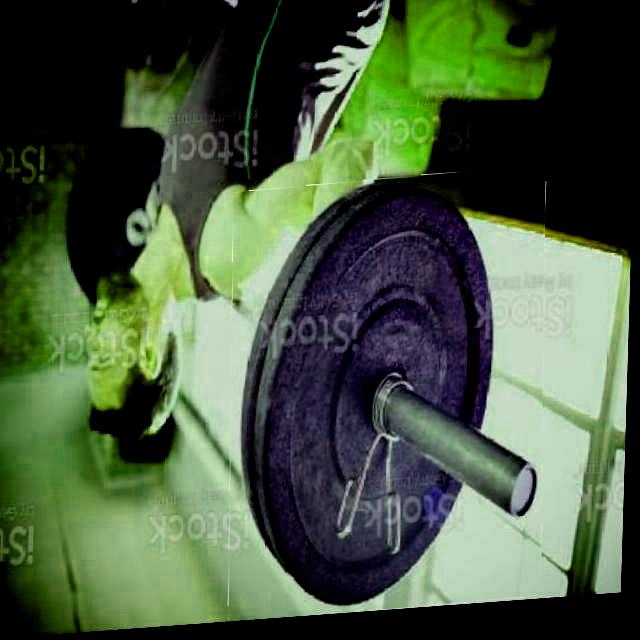barbell: (227, 176, 552, 627)
